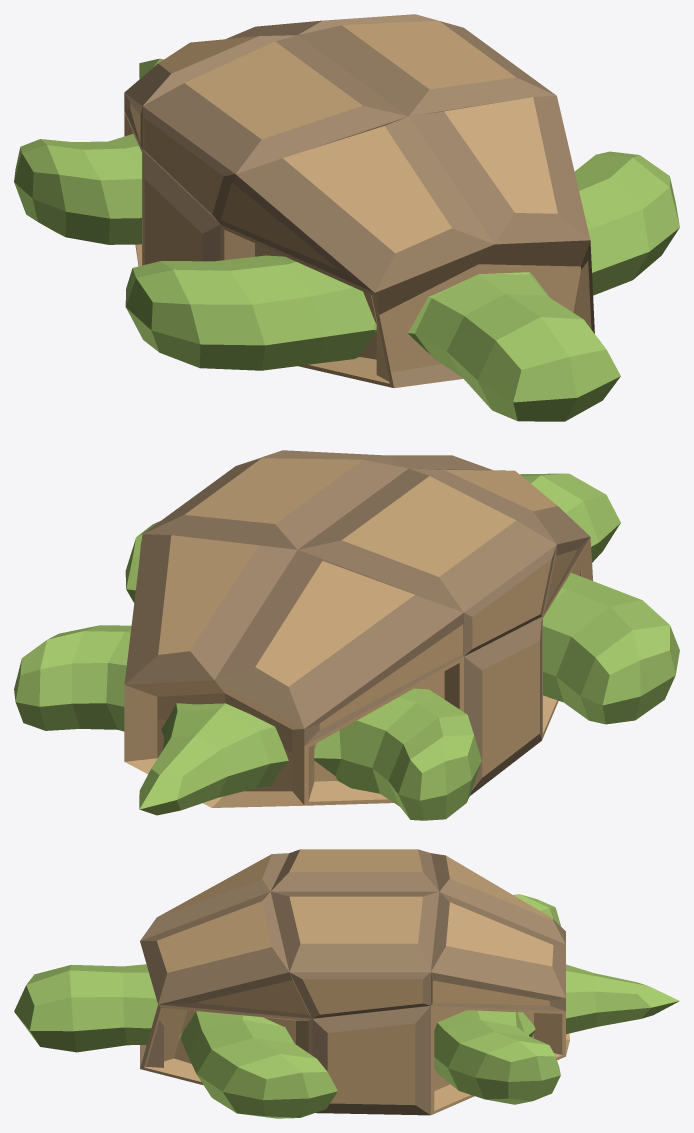
Rendered from Turtle.fbx.
3 views of the same model, one above another, from view 1: azimuth 30°, elevation 25°; view 2: azimuth 150°, elevation 25°; view 3: azimuth 270°, elevation 25° (orthographic). The views are drawn at different scales.
Visible parts, largest first — view 1: Cube.001; view 2: Cube.001; view 3: Cube.001.
Part boxes in pixels (x1=…): Cube.001: x1=14, y1=14, x2=679, y2=421; Cube.001: x1=14, y1=450, x2=679, y2=820; Cube.001: x1=14, y1=849, x2=679, y2=1118.
Size of the model in its own units: 8.43 by 3.67 by 12.2.
